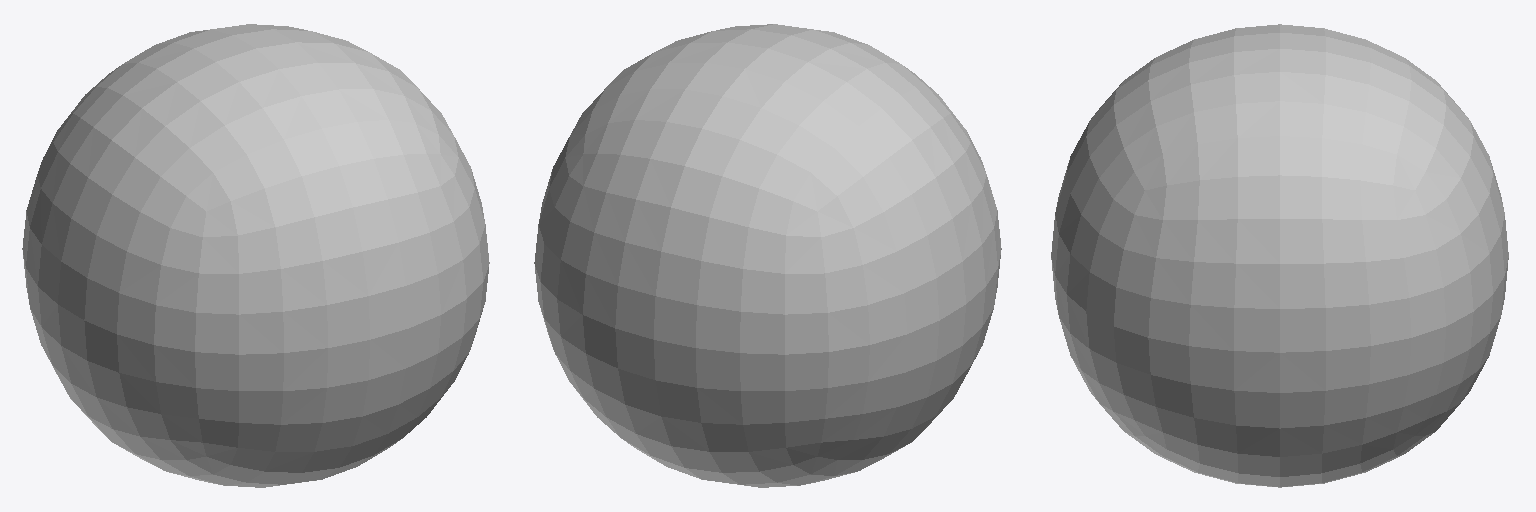
File: nonormalsphere.obj
3 views of the same model, side by side, from view 1: azimuth 30°, elevation 25°; view 2: azimuth 150°, elevation 25°; view 3: azimuth 270°, elevation 25° (orthographic).
Parts seen in each view (by area): view 1: Cube_Cube.001; view 2: Cube_Cube.001; view 3: Cube_Cube.001.
Part boxes in pixels (bbox=[...]): Cube_Cube.001: bbox=[22, 24, 489, 487]; Cube_Cube.001: bbox=[534, 24, 1001, 487]; Cube_Cube.001: bbox=[1051, 24, 1508, 487].
Bounding box in the file's own units: 1.7 × 1.7 × 1.7.